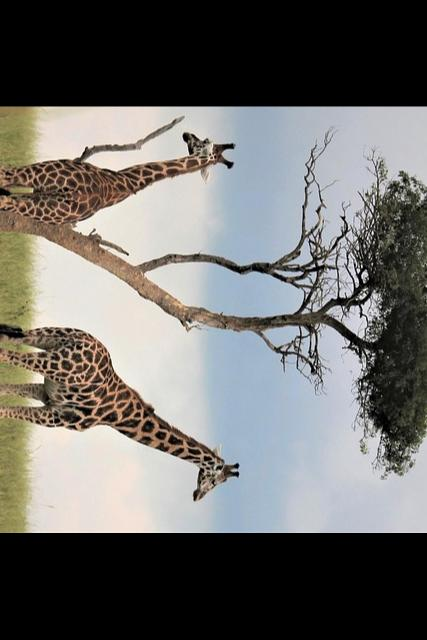Non_Gorille: (0, 130, 314, 515)
